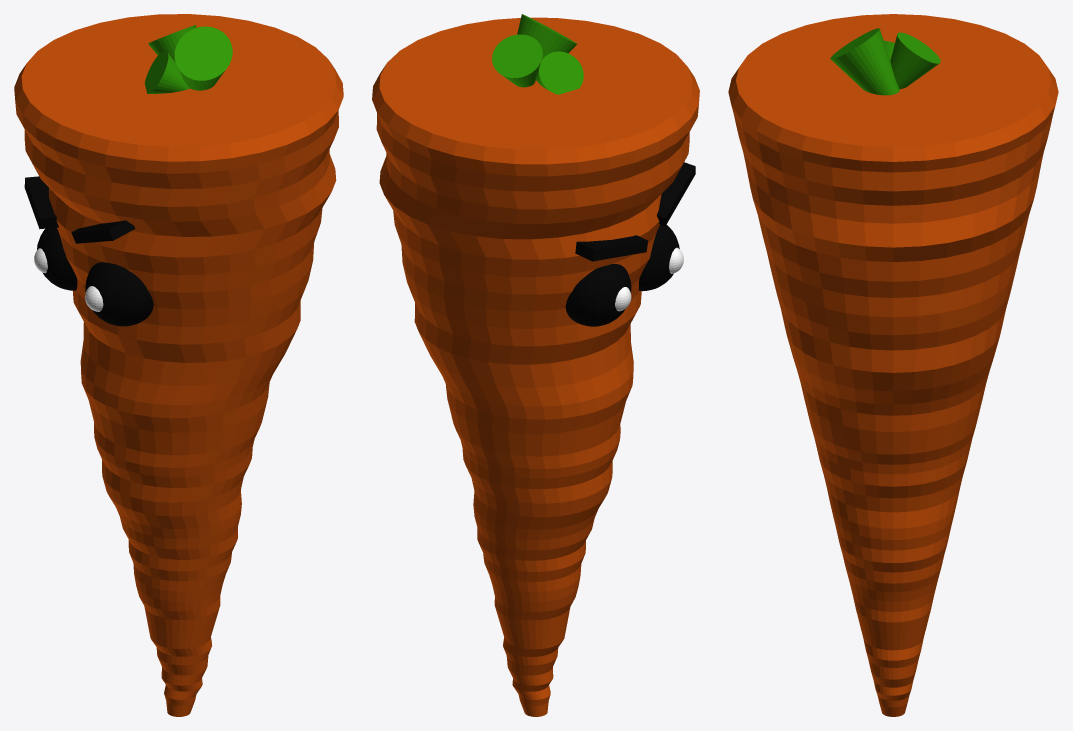
Rendered from El_Carro3(dönecek).fbx.
The picture shows the model from 3 angles, left to right: view 1: azimuth 30°, elevation 25°; view 2: azimuth 150°, elevation 25°; view 3: azimuth 270°, elevation 25°; orthographic projection.
Parts seen in each view (by area): view 1: Gövde; view 2: Gövde; view 3: Gövde.
Part boxes in pixels (x1=…): Gövde: x1=14, y1=14, x2=343, y2=716; Gövde: x1=372, y1=14, x2=699, y2=716; Gövde: x1=728, y1=14, x2=1058, y2=716.
Size of the model in its own units: 200 by 459 by 200.
